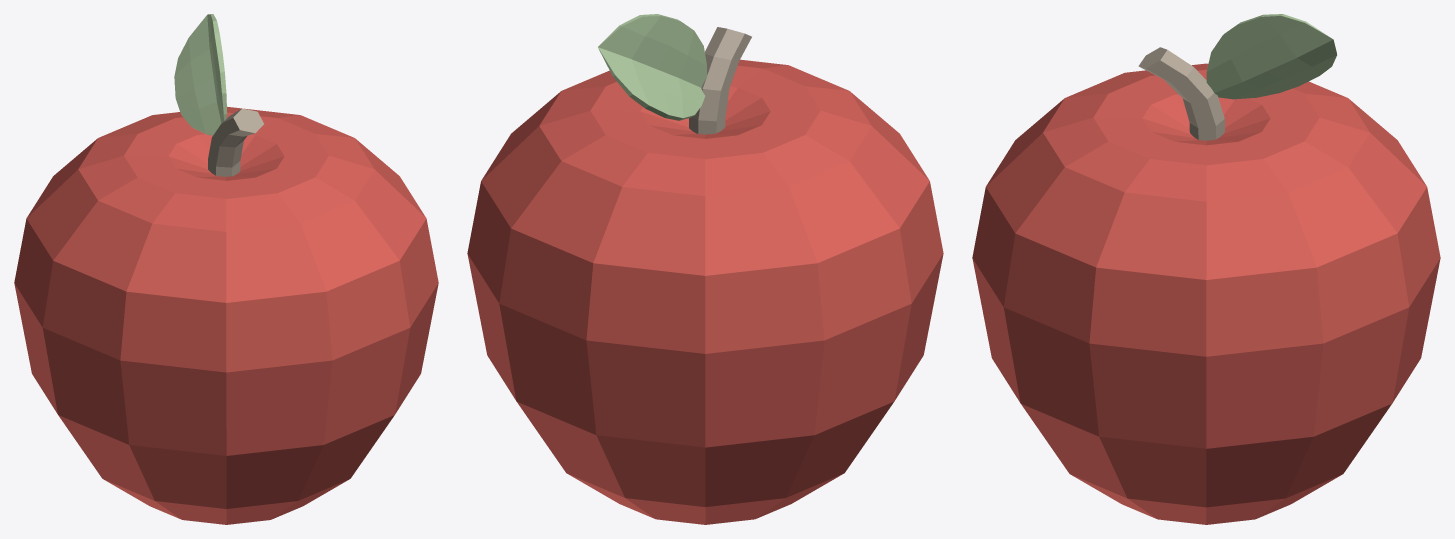
The model's file is Apple.fbx.
3 renders of one model, left to right at view 1: azimuth 30°, elevation 25°; view 2: azimuth 150°, elevation 25°; view 3: azimuth 270°, elevation 25°, orthographic. The views are drawn at different scales.
Visible parts, largest first — view 1: Sphere, Cube, Cylinder; view 2: Sphere, Cube, Cylinder; view 3: Sphere, Cube, Cylinder.
Boxes of the visible parts, <box> form: Sphere: <box>14,106,438,524</box>; Cube: <box>174,14,227,135</box>; Cylinder: <box>208,108,263,176</box>; Sphere: <box>467,59,943,524</box>; Cube: <box>598,14,707,120</box>; Cylinder: <box>689,27,751,134</box>; Sphere: <box>972,63,1440,524</box>; Cube: <box>1206,14,1336,99</box>; Cylinder: <box>1138,47,1224,140</box>.
Bounding box in the file's own units: 13.3 × 15.28 × 13.3.
